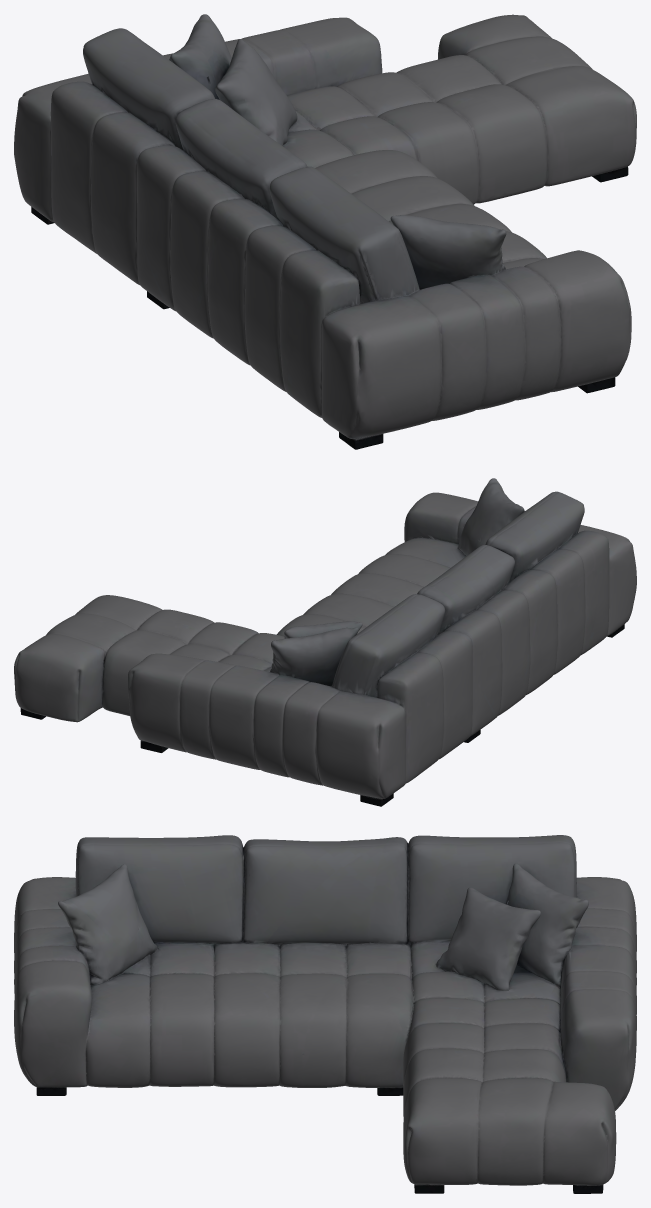
The model's file is caravanafurniture-com-products-right-facing-chaise-sectional-76e24b.glb.
3 renders of one model, top to bottom at view 1: azimuth 30°, elevation 25°; view 2: azimuth 150°, elevation 25°; view 3: azimuth 270°, elevation 25°, orthographic. The views are drawn at different scales.
Visible parts, largest first — view 1: tripo_node_48d2cf77-95c4-481e-b061-4b8b241fa8f4; view 2: tripo_node_48d2cf77-95c4-481e-b061-4b8b241fa8f4; view 3: tripo_node_48d2cf77-95c4-481e-b061-4b8b241fa8f4.
Boxes of the visible parts, x1,y1,x2,y2 form: tripo_node_48d2cf77-95c4-481e-b061-4b8b241fa8f4: (14,14,636,449); tripo_node_48d2cf77-95c4-481e-b061-4b8b241fa8f4: (14,478,636,806); tripo_node_48d2cf77-95c4-481e-b061-4b8b241fa8f4: (14,835,636,1193).
Bounding box in the file's own units: 0.8427 × 0.2978 × 1.
1 material, 1 textured.
